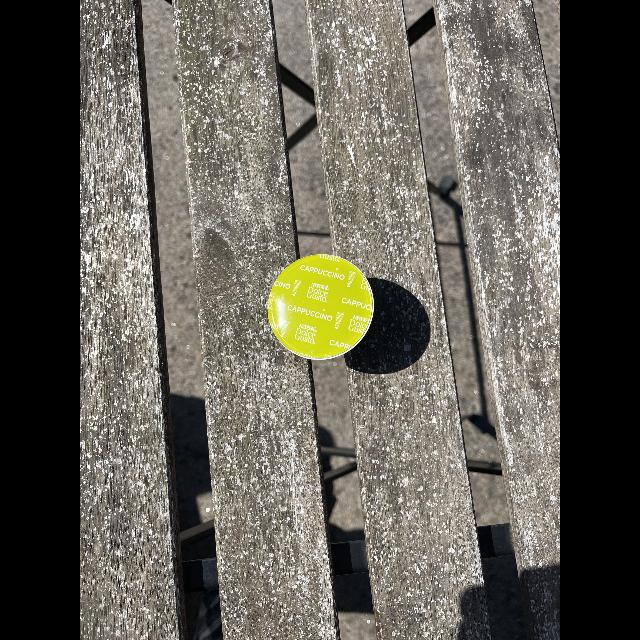intact_capsule: (260, 248, 378, 364)
